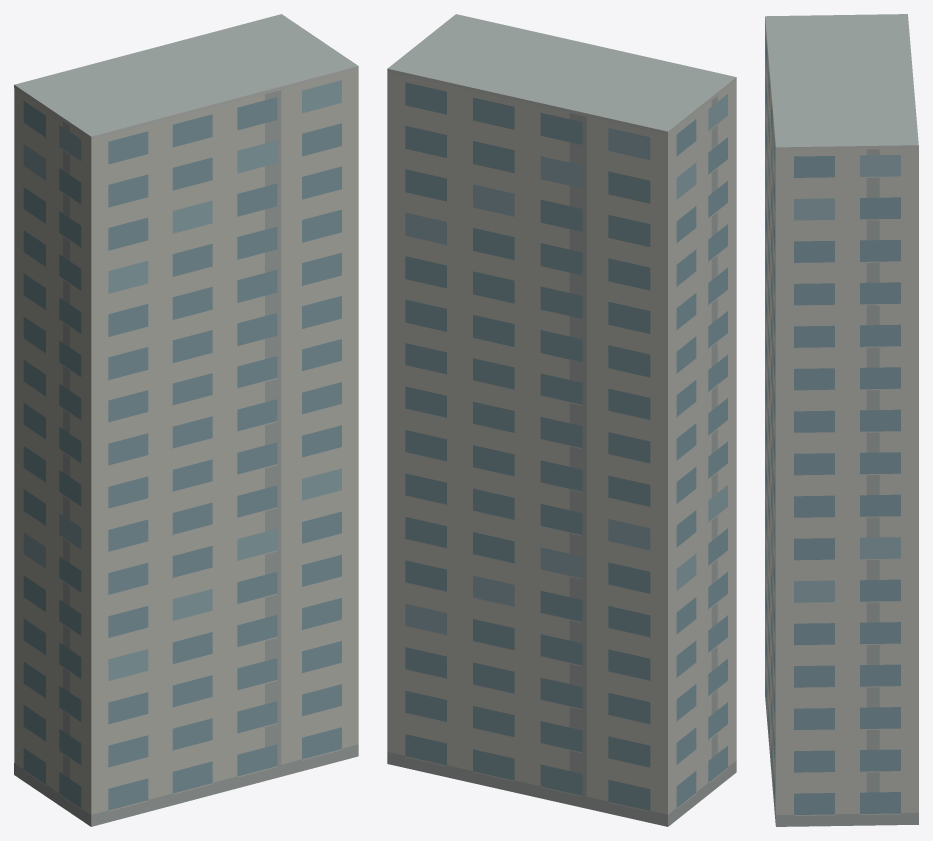
File: residential-42106b1d-3e0a-4185-a338-1439dda86d8a.glb
The picture shows the model from 3 angles, left to right: view 1: azimuth 30°, elevation 25°; view 2: azimuth 150°, elevation 25°; view 3: azimuth 270°, elevation 25°; orthographic projection. The views are drawn at different scales.
Parts seen in each view (by area): view 1: residential-42106b1d-3e0a-4185-a338-1439dda86d8a.tmp; view 2: residential-42106b1d-3e0a-4185-a338-1439dda86d8a.tmp; view 3: residential-42106b1d-3e0a-4185-a338-1439dda86d8a.tmp.
Part boxes in pixels (x1,y1,x2,y2): residential-42106b1d-3e0a-4185-a338-1439dda86d8a.tmp: (14, 14, 358, 826); residential-42106b1d-3e0a-4185-a338-1439dda86d8a.tmp: (387, 14, 736, 826); residential-42106b1d-3e0a-4185-a338-1439dda86d8a.tmp: (765, 14, 918, 826).
Size of the model in its own units: 20.21 by 48 by 9.85.
